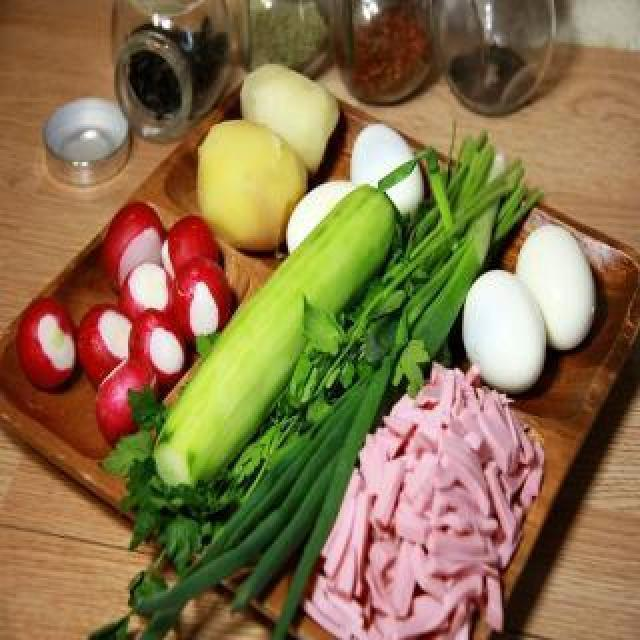Potato: (188, 114, 314, 258), (230, 60, 346, 186)
